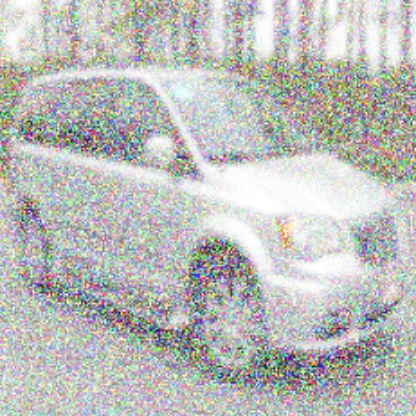Vehicle: (5, 69, 407, 384)
